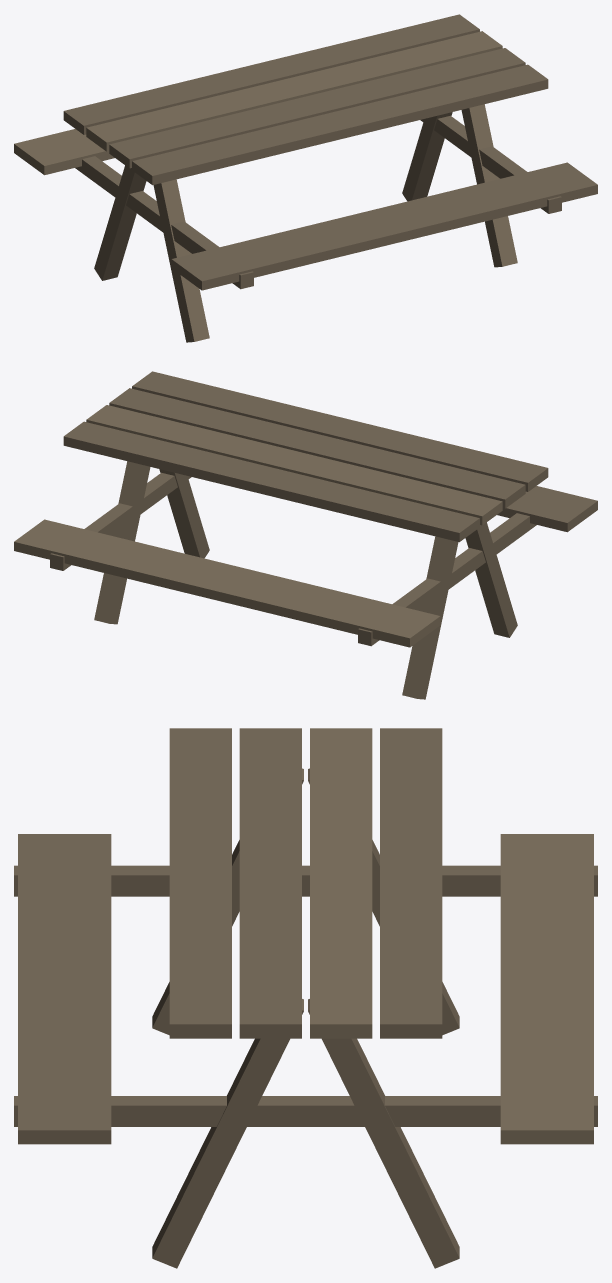
File: street.furniture.picnic_table_a.glb
3 views of the same model, one above another, from view 1: azimuth 30°, elevation 25°; view 2: azimuth 150°, elevation 25°; view 3: azimuth 270°, elevation 25° (orthographic). The views are drawn at different scales.
Visible parts, largest first — view 1: main__galv_765, main__galv_775, main__glaze_765, main__concrete_765; view 2: main__galv_765, main__galv_775, main__glaze_765, main__concrete_765; view 3: main__galv_765, main__galv_775, main__glaze_765, main__concrete_765.
Boxes of the visible parts, x1=… form: main__galv_765: x1=63, y1=14, x2=597, y2=290; main__galv_775: x1=14, y1=31, x2=502, y2=175; main__glaze_765: x1=94, y1=104, x2=517, y2=342; main__concrete_765: x1=75, y1=115, x2=561, y2=289; main__galv_765: x1=63, y1=371, x2=597, y2=542; main__galv_775: x1=14, y1=405, x2=502, y2=647; main__glaze_765: x1=94, y1=461, x2=517, y2=699; main__concrete_765: x1=50, y1=472, x2=536, y2=646; main__galv_765: x1=18, y1=728, x2=442, y2=1144; main__galv_775: x1=310, y1=728, x2=593, y2=1144; main__glaze_765: x1=152, y1=768, x2=459, y2=1268; main__concrete_765: x1=14, y1=865, x2=597, y2=1126.
Bounding box in the file's own units: 1.8 × 0.7695 × 1.5.
